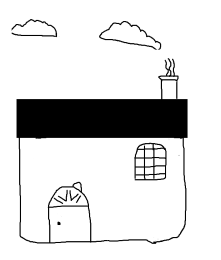bottom_placed_house: (0, 0, 219, 259)
closed_window: (125, 140, 177, 186)
clouds: (96, 13, 164, 58), (8, 14, 67, 48)
door: (44, 179, 97, 247)
shaded_roof: (12, 92, 194, 142)
smoking_chimney: (155, 53, 184, 111)
wall: (8, 128, 196, 246)
